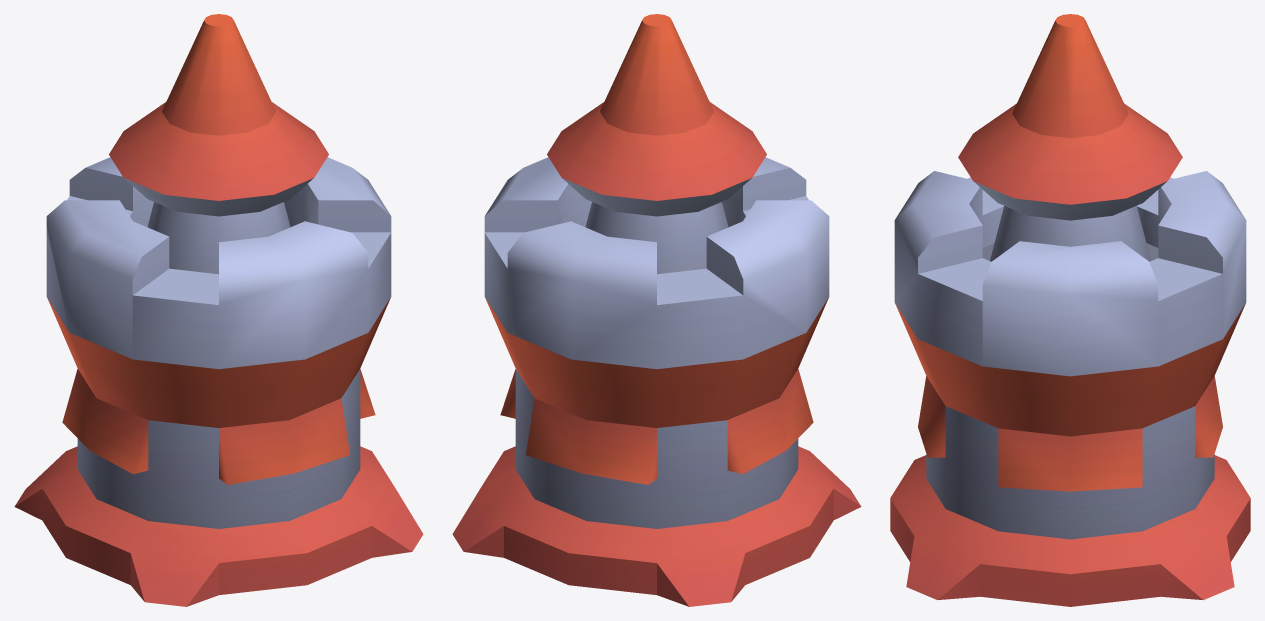
File: kenney-tower-defense-tower-round-build-e.glb
3 renders of one model, left to right at view 1: azimuth 30°, elevation 25°; view 2: azimuth 150°, elevation 25°; view 3: azimuth 270°, elevation 25°, orthographic. The views are drawn at different scales.
Parts seen in each view (by area): view 1: tower-round-build-e; view 2: tower-round-build-e; view 3: tower-round-build-e.
Part boxes in pixels (box(x1,y1,x2,y2)): tower-round-build-e: box(14, 14, 423, 606); tower-round-build-e: box(452, 14, 861, 606); tower-round-build-e: box(890, 14, 1250, 606).
Bounding box in the file's own units: 1 × 1.56 × 1.
Materials: 1 (1 with a texture image).
